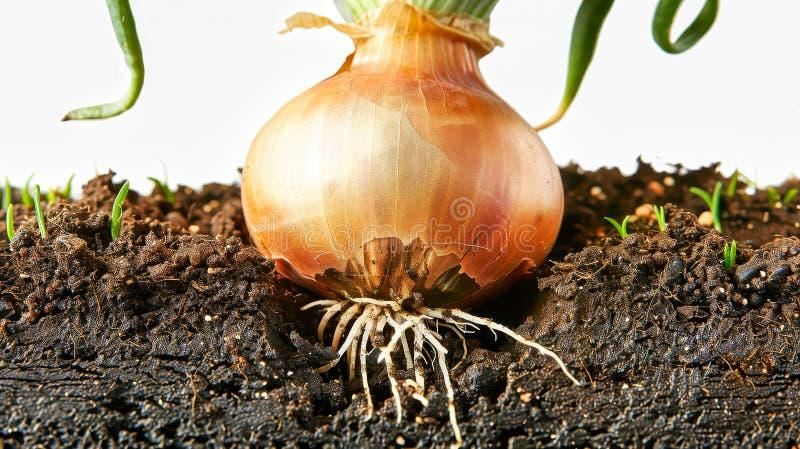Onion: (234, 6, 564, 353)
